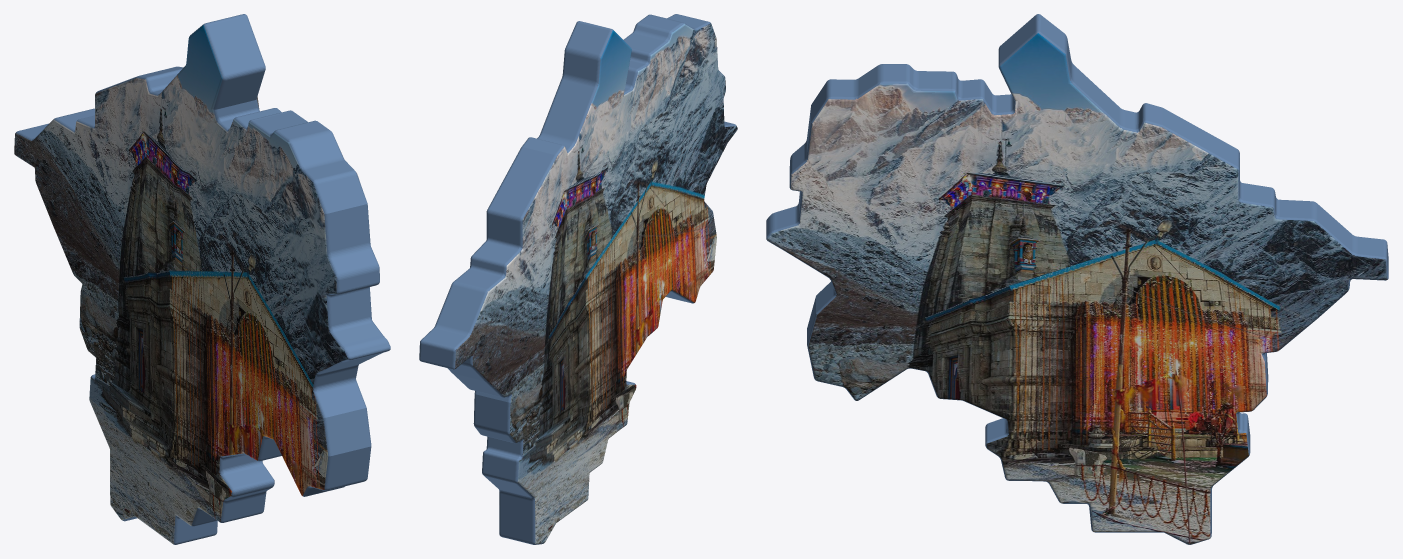
File: Uttarakhand.glb
The picture shows the model from 3 angles, left to right: view 1: azimuth 30°, elevation 25°; view 2: azimuth 150°, elevation 25°; view 3: azimuth 270°, elevation 25°; orthographic projection. The views are drawn at different scales.
Visible parts, largest first — view 1: Object_14; view 2: Object_14; view 3: Object_14.
Boxes of the visible parts, box(x1,y1,x2,y2) form: Object_14: box(14, 14, 390, 544); Object_14: box(419, 14, 737, 544); Object_14: box(766, 14, 1388, 544).
Bounding box in the file's own units: 0.0418 × 0.441 × 0.4846.
1 material, 1 textured.
